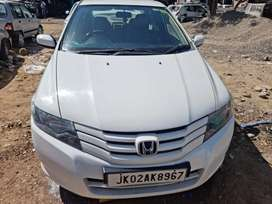JK02AK8967: (108, 168, 187, 187)
